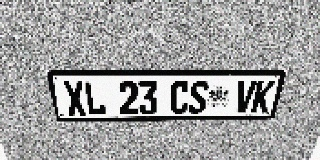2: (118, 81, 139, 115)
3: (138, 81, 158, 115)
C: (170, 81, 190, 114)
K: (250, 80, 276, 113)
L: (83, 81, 106, 115)
S: (188, 81, 209, 114)
V: (233, 80, 257, 113)
X: (62, 81, 87, 116)
